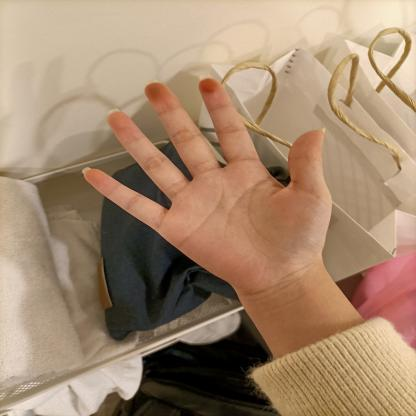bare_hand: (72, 72, 336, 292)
